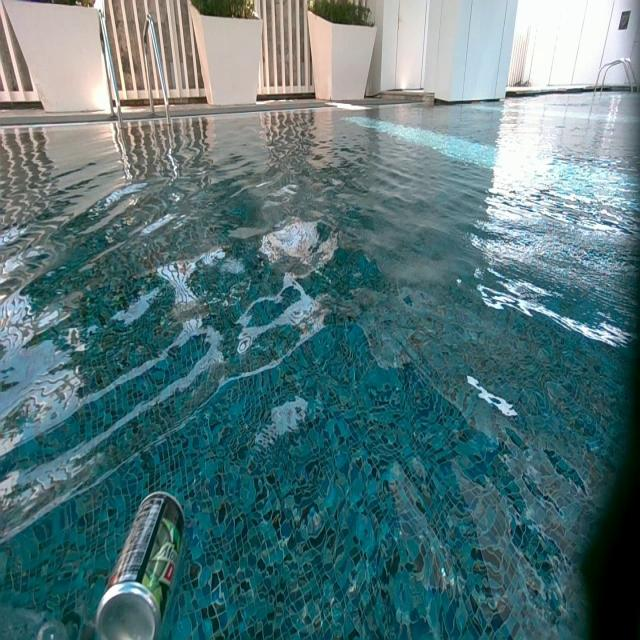Cans: (92, 490, 184, 640)
